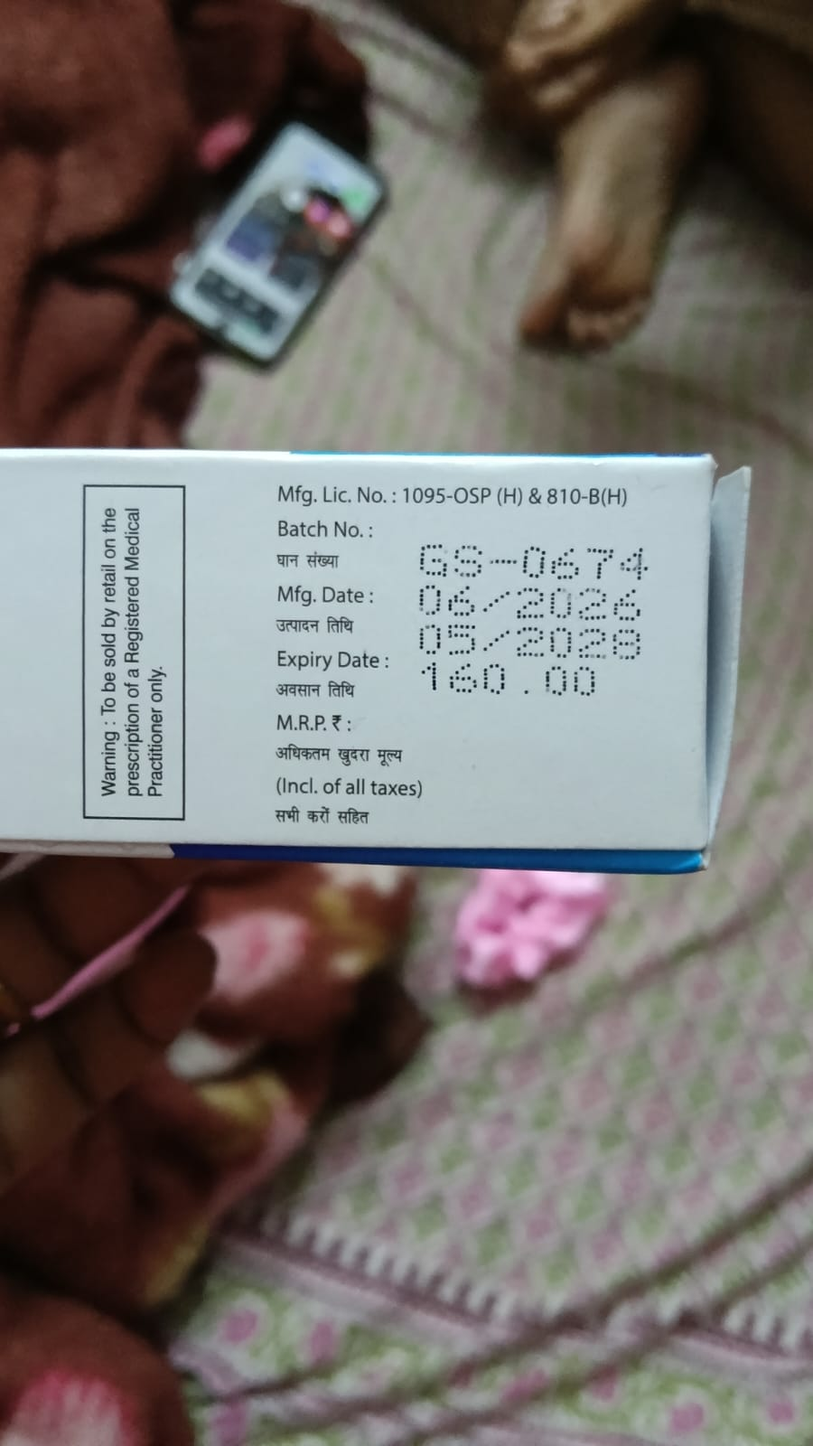mfg_date: (263, 577, 665, 632)
mrp: (398, 654, 633, 710)
